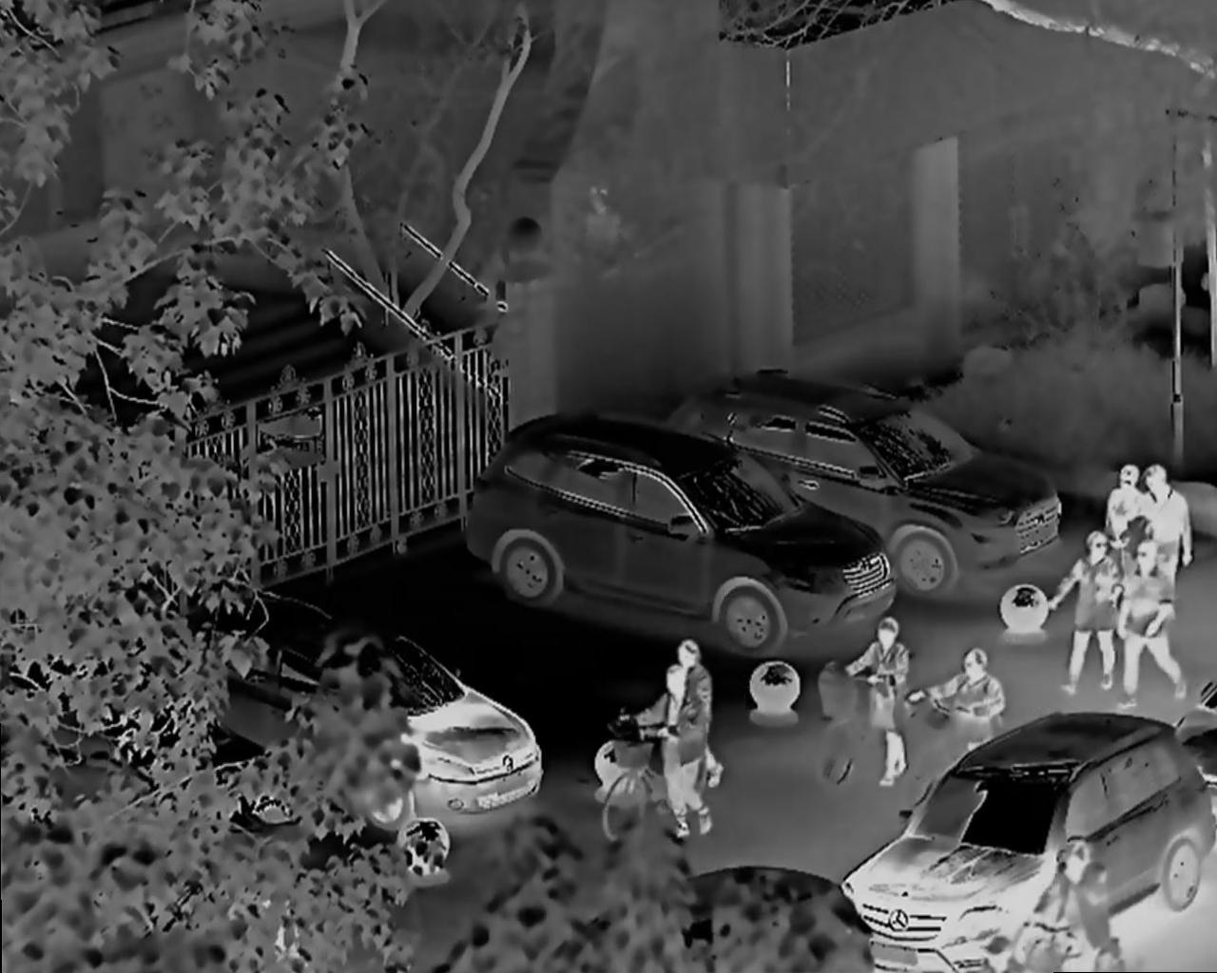person: (853, 621, 918, 792), (1118, 544, 1182, 694), (1054, 834, 1113, 966), (1072, 530, 1116, 706), (942, 652, 1009, 741), (670, 674, 701, 865), (1142, 460, 1194, 564), (1108, 459, 1138, 547), (676, 644, 709, 669)
